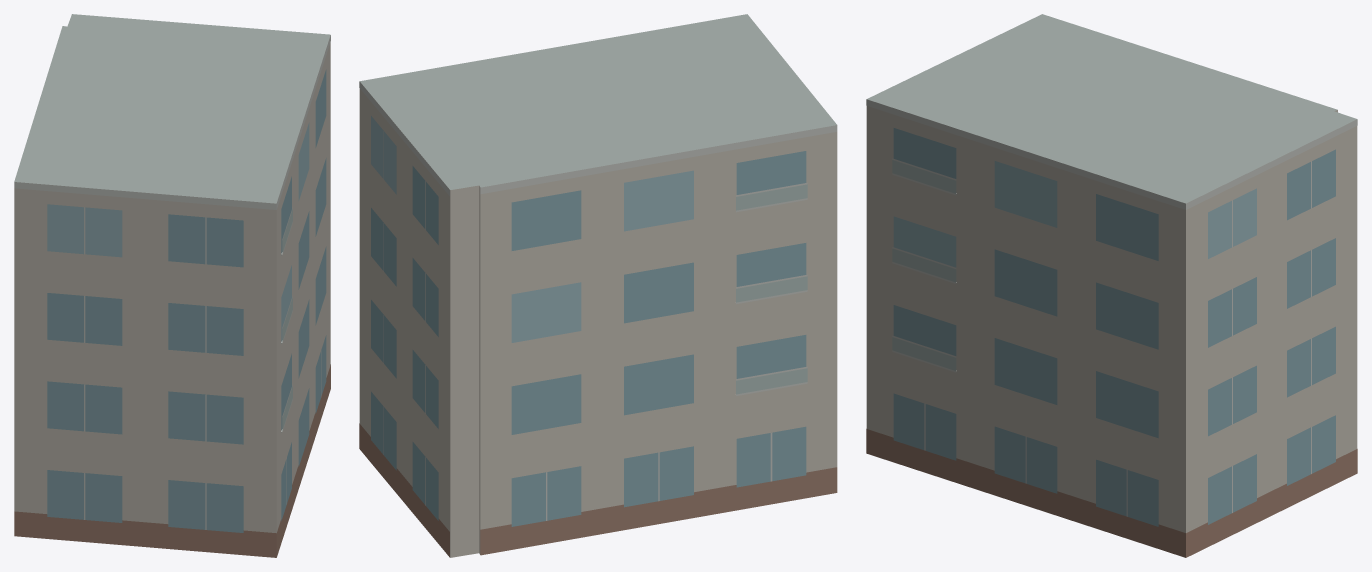
Rendered from survey-upis-32979246.glb.
3 renders of one model, left to right at view 1: azimuth 30°, elevation 25°; view 2: azimuth 150°, elevation 25°; view 3: azimuth 270°, elevation 25°, orthographic. The views are drawn at different scales.
Parts seen in each view (by area): view 1: survey-upis-32979246.tmp; view 2: survey-upis-32979246.tmp; view 3: survey-upis-32979246.tmp.
Part boxes in pixels (x1,y1,x2,y2): survey-upis-32979246.tmp: (14, 14, 330, 557); survey-upis-32979246.tmp: (359, 14, 837, 557); survey-upis-32979246.tmp: (866, 14, 1357, 557).
Size of the model in its own units: 15.39 by 13.4 by 16.84.
